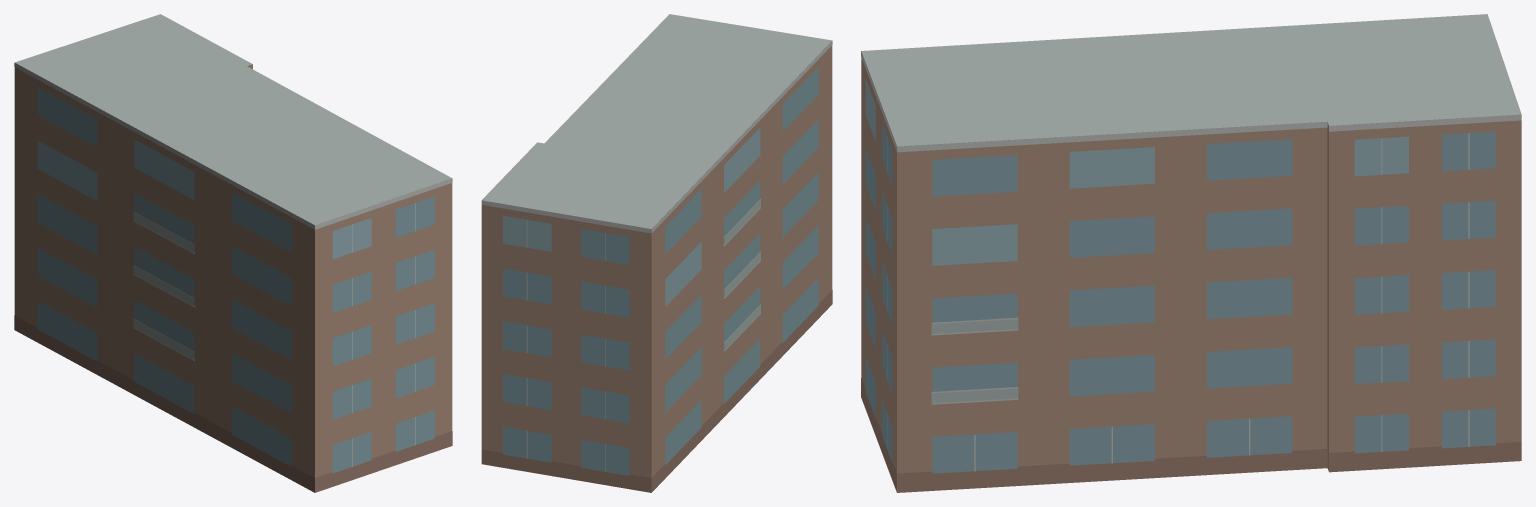
File: survey-upis-32738761.glb
The picture shows the model from 3 angles, left to right: view 1: azimuth 30°, elevation 25°; view 2: azimuth 150°, elevation 25°; view 3: azimuth 270°, elevation 25°; orthographic projection. The views are drawn at different scales.
Visible parts, largest first — view 1: survey-upis-32738761.tmp; view 2: survey-upis-32738761.tmp; view 3: survey-upis-32738761.tmp.
Boxes of the visible parts, bbox=[...] form: survey-upis-32738761.tmp: bbox=[14, 14, 452, 492]; survey-upis-32738761.tmp: bbox=[481, 14, 832, 492]; survey-upis-32738761.tmp: bbox=[861, 14, 1521, 492].
Size of the model in its own units: 11.91 by 14.5 by 25.07.
